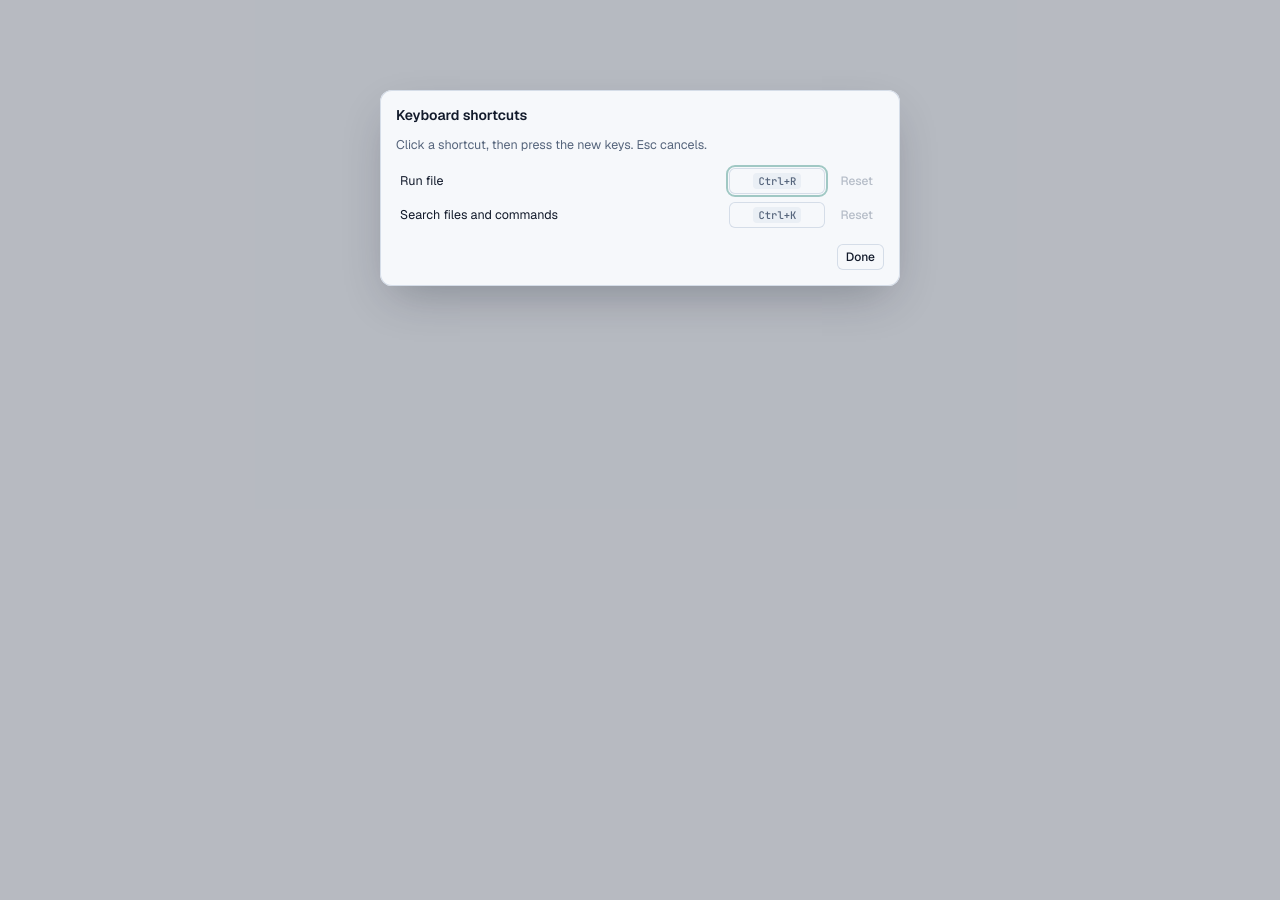
Test: shortcuts sheet › refuses keys another command uses
Click the button with aria-label "Rebind Run file" at (777, 181), box [729, 168, 825, 194]
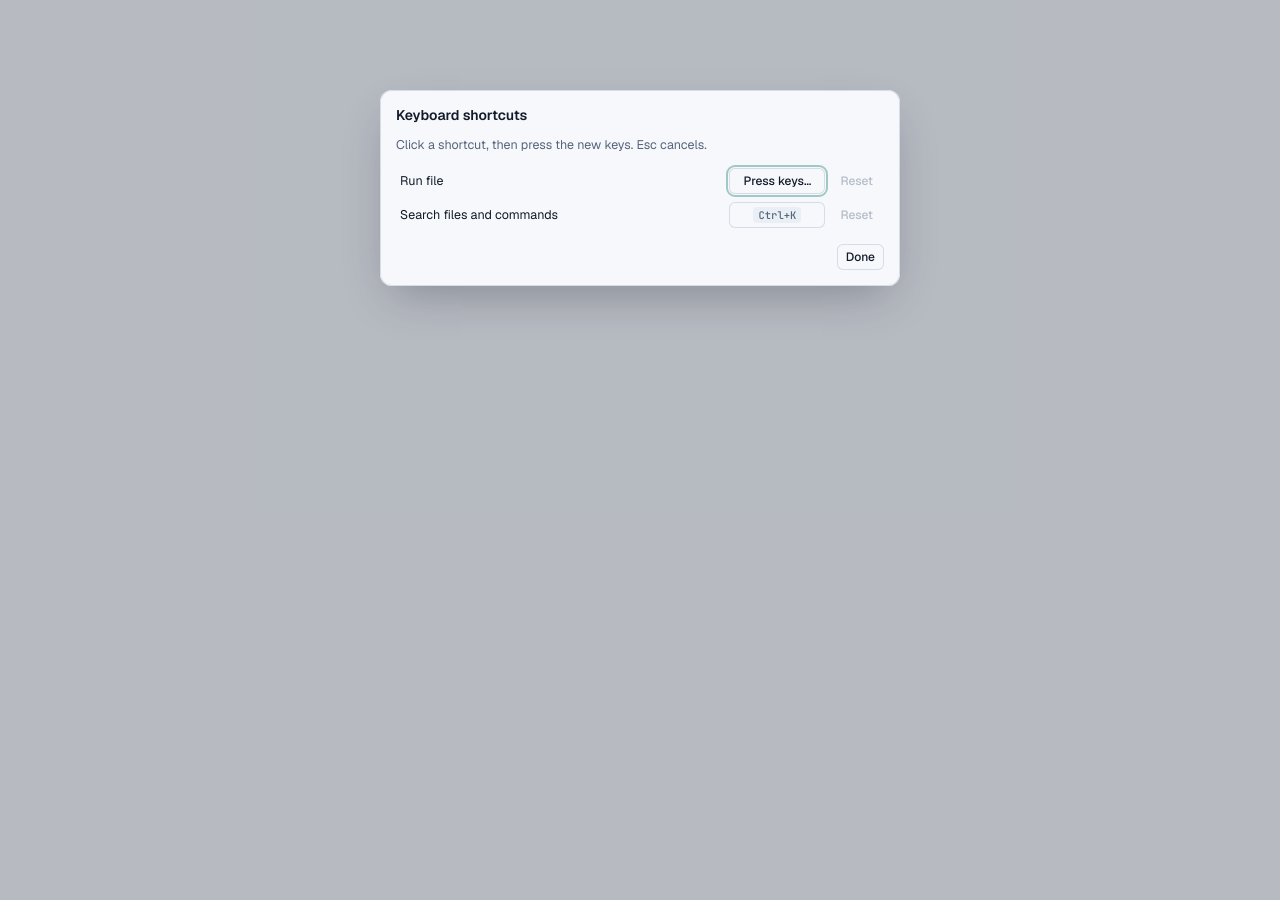
Type keys "{Control>}{Meta>}k{/Meta}{/Control}"
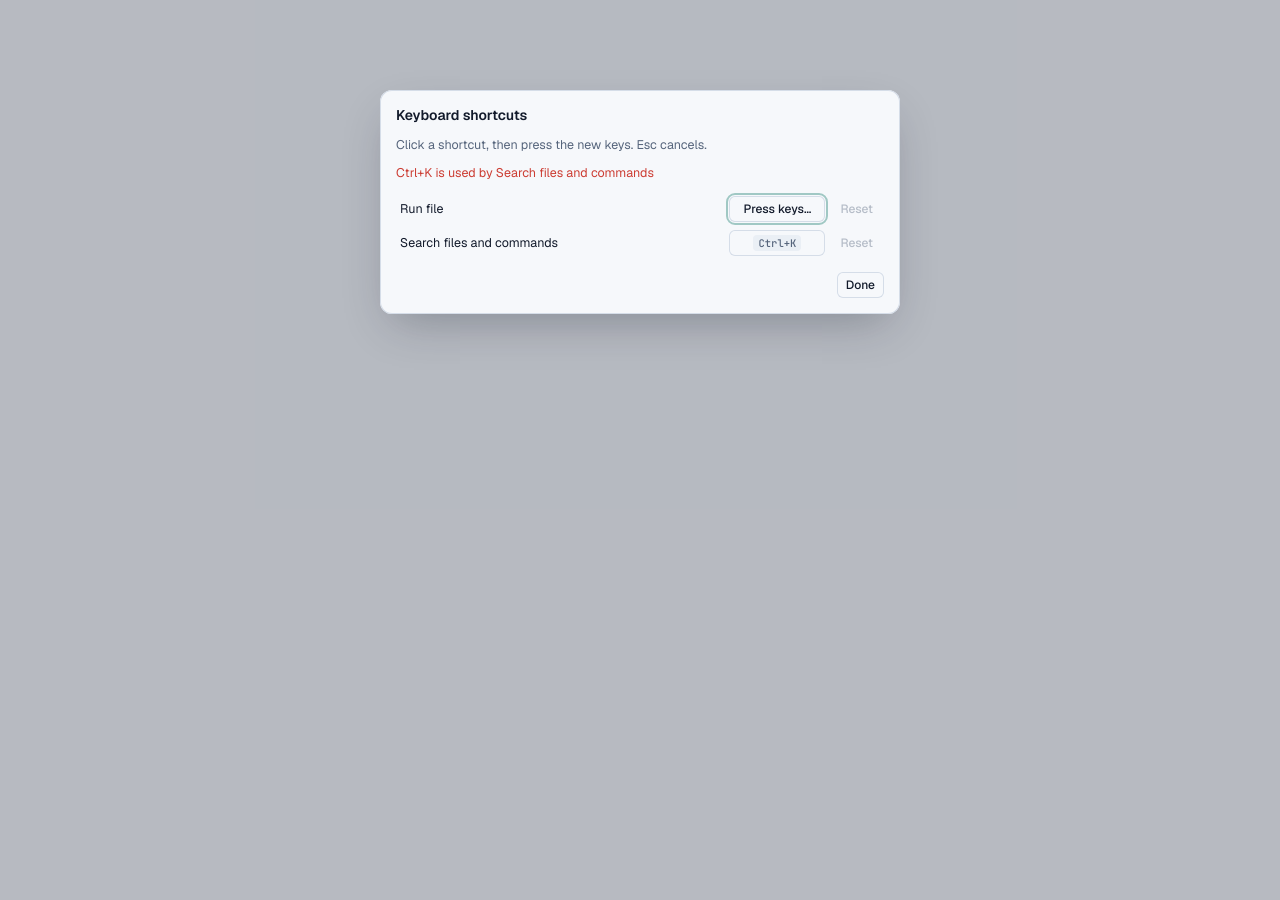
Now the message shows "is used by Search files and commands", box [396, 164, 654, 181]
